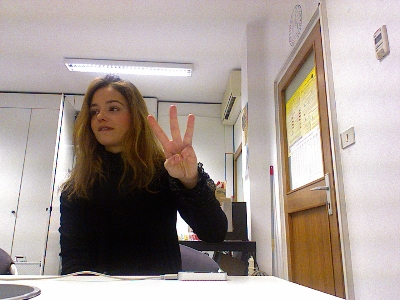三分: (146, 102, 199, 180)
